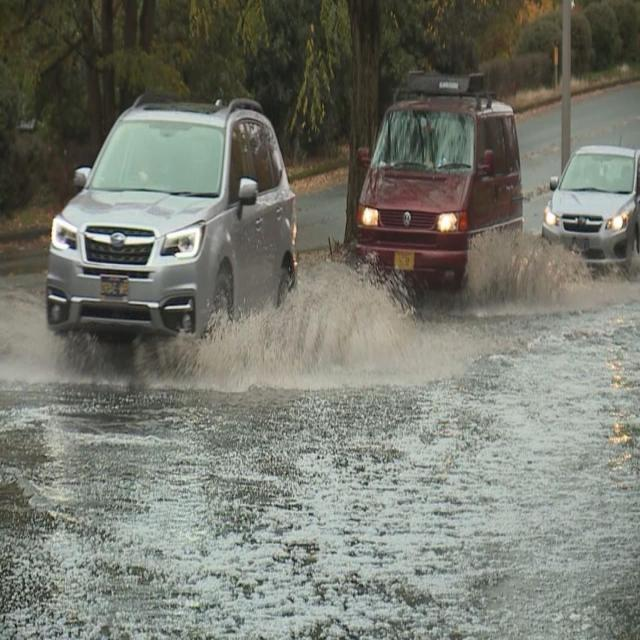Car: (47, 92, 299, 360), (543, 142, 640, 280)
Van: (355, 70, 526, 308)
